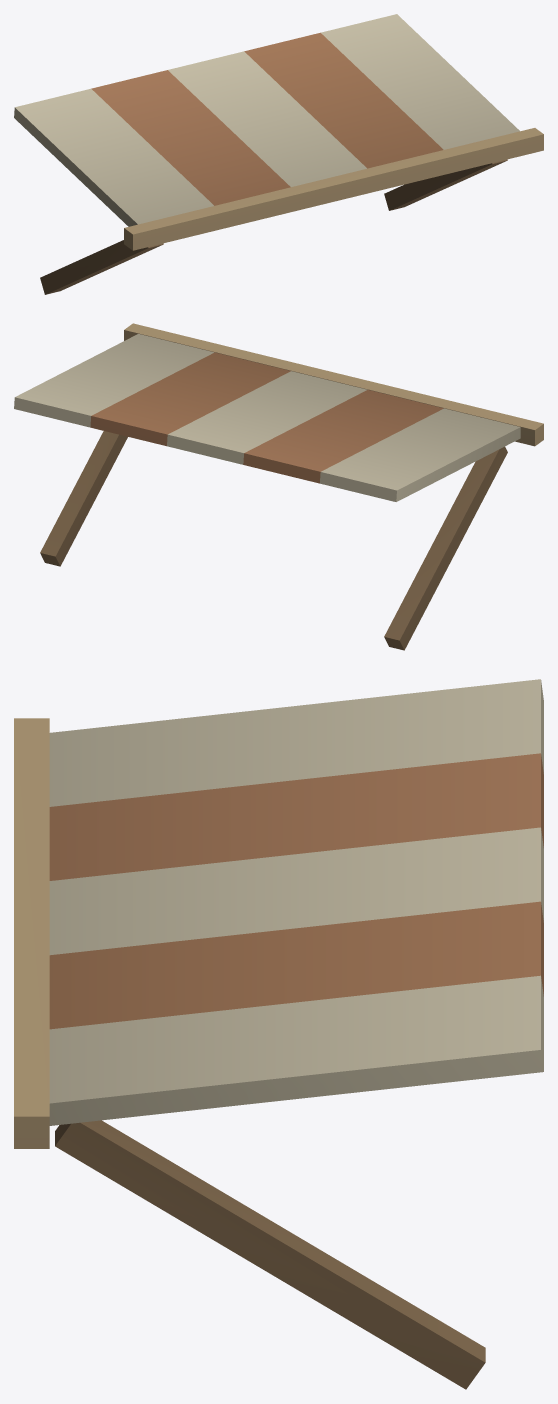
Rendered from door_awning.glb.
3 renders of one model, top to bottom at view 1: azimuth 30°, elevation 25°; view 2: azimuth 150°, elevation 25°; view 3: azimuth 270°, elevation 25°, orthographic. The views are drawn at different scales.
Parts seen in each view (by area): view 1: door_awning; view 2: door_awning; view 3: door_awning.
Part boxes in pixels (x1,y1,x2,y2): door_awning: (14, 14, 543, 294); door_awning: (14, 323, 543, 650); door_awning: (14, 679, 543, 1389).
Size of the model in its own units: 1.72 by 0.7064 by 0.9668.
